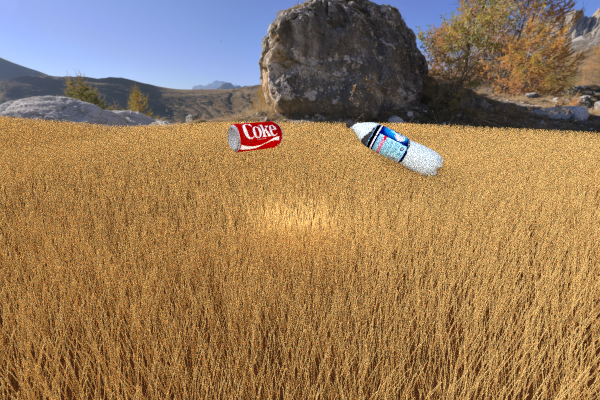Plastic Bottle: (345, 119, 443, 177), (227, 121, 283, 152)
